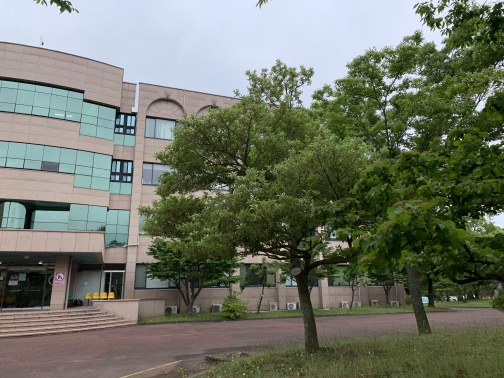Natural Science2: (1, 39, 194, 335)
